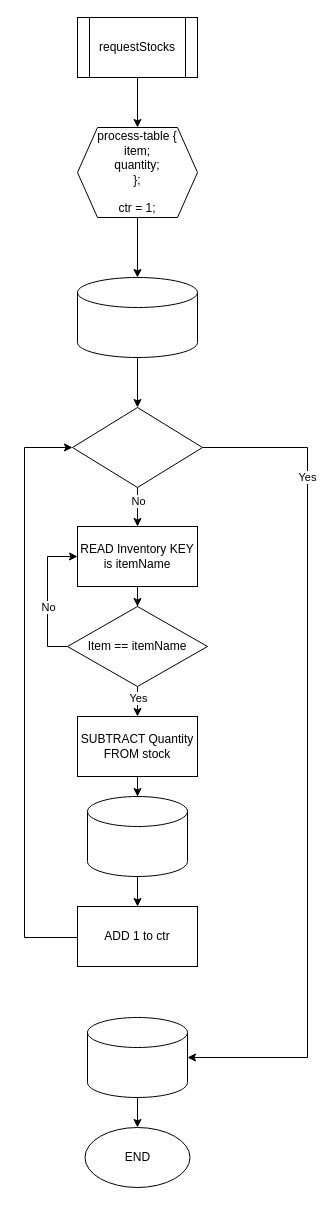
The diagram is 333 pixels wide and 1205 high, and some of its shapes have lost their labels. The box of each missing label's shape, as (x1, y1, x2, y2) in pixels:
CLOSE Inventory: (86, 1016, 188, 1098)
item(ctr) == spaces: (72, 406, 202, 488)
OPEN I-O Inventory: (76, 276, 198, 358)
WRITE Inventory-rec: (86, 796, 188, 876)
